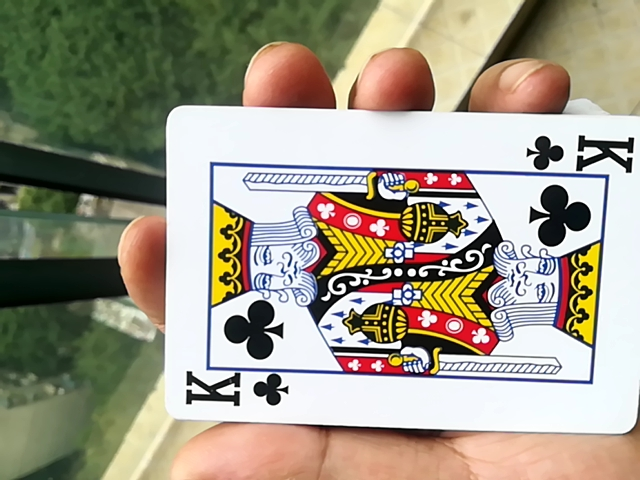mh k: (149, 107, 636, 450)
